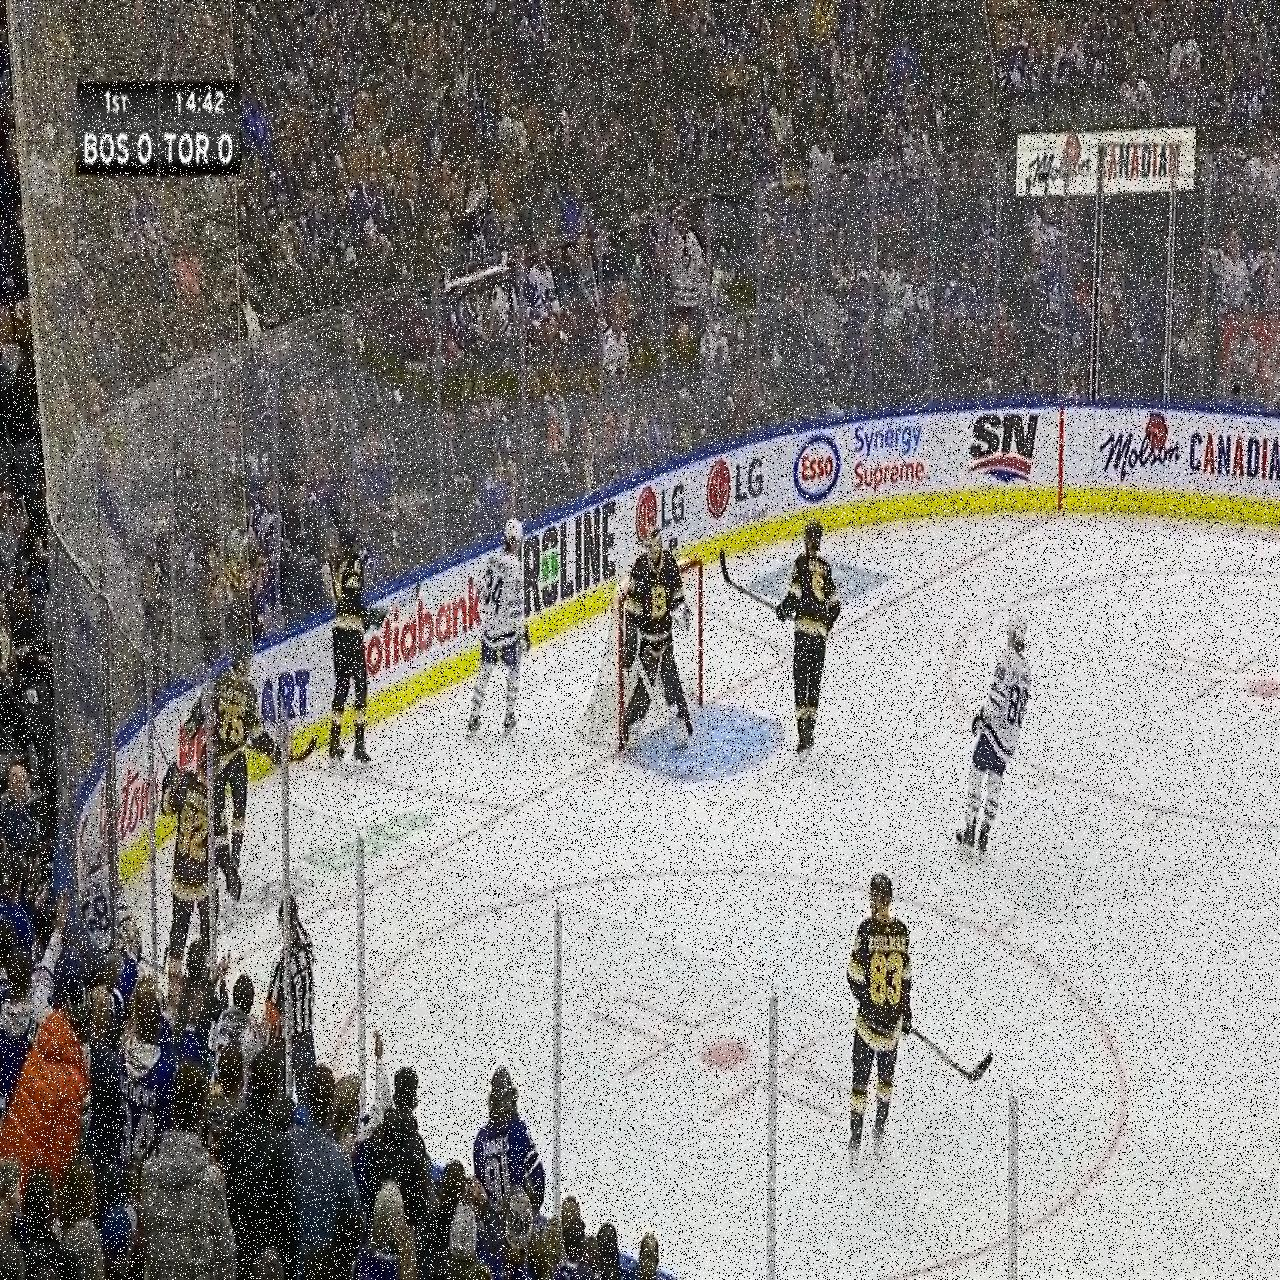Ad: (181, 783, 433, 964), (1091, 399, 1279, 539), (179, 626, 318, 795), (799, 410, 941, 533), (366, 567, 485, 712), (523, 493, 621, 646), (83, 727, 162, 911), (710, 424, 774, 543), (966, 404, 1047, 488), (641, 464, 695, 564)
